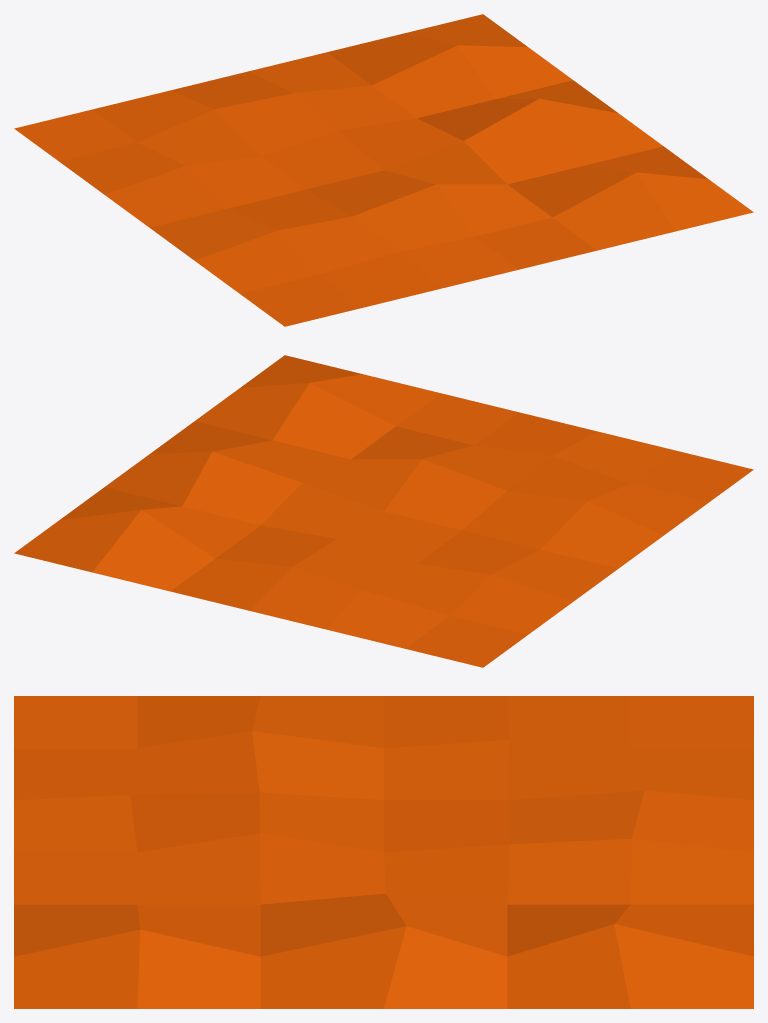
The model's file is Sand.fbx.
3 renders of one model, top to bottom at view 1: azimuth 30°, elevation 25°; view 2: azimuth 150°, elevation 25°; view 3: azimuth 270°, elevation 25°, orthographic. The views are drawn at different scales.
Parts seen in each view (by area): view 1: Plane; view 2: Plane; view 3: Plane.
Boxes of the visible parts, x1=… form: Plane: x1=14, y1=14, x2=753, y2=326; Plane: x1=14, y1=355, x2=753, y2=667; Plane: x1=14, y1=696, x2=753, y2=1008.
Size of the model in its own units: 16276 by 861 by 16276.
